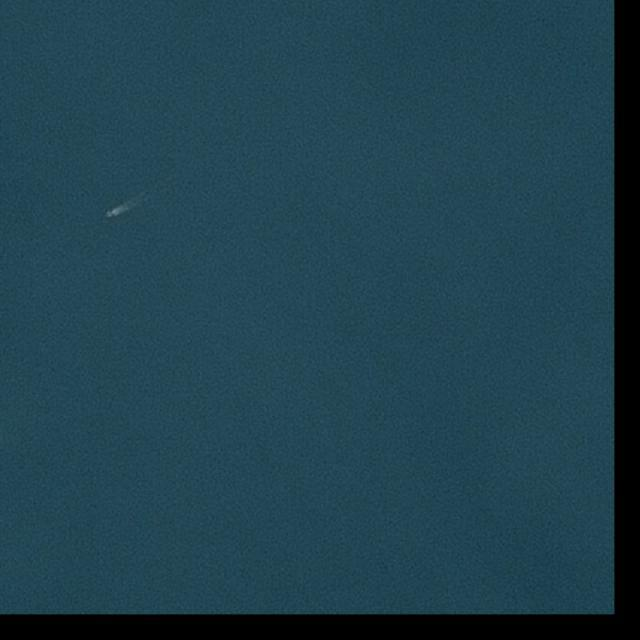ship: (103, 209, 117, 219)
